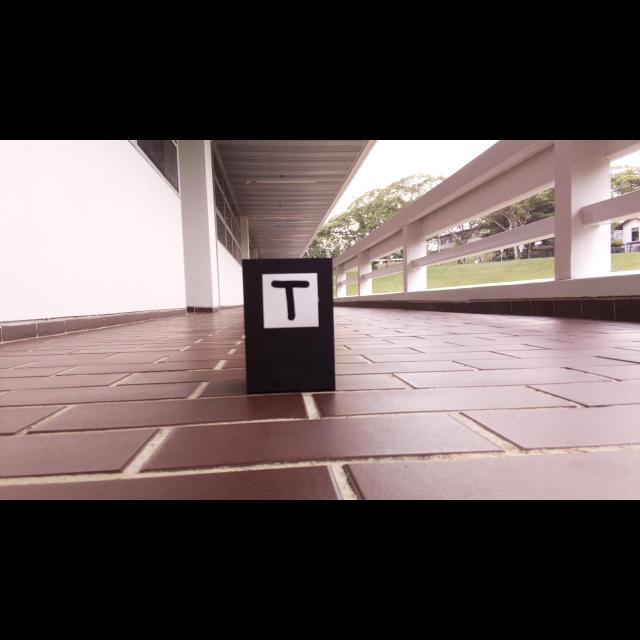T: (271, 280, 309, 320)
